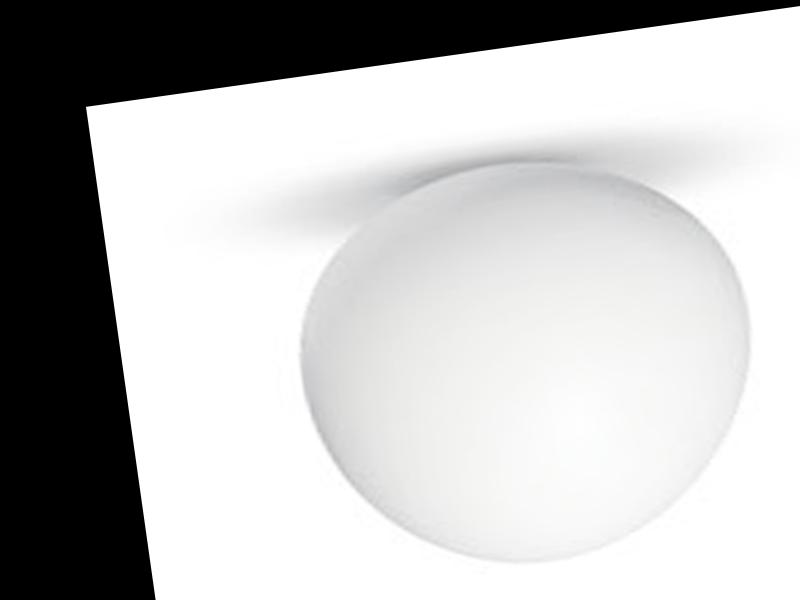Eggs: (284, 135, 777, 593)
